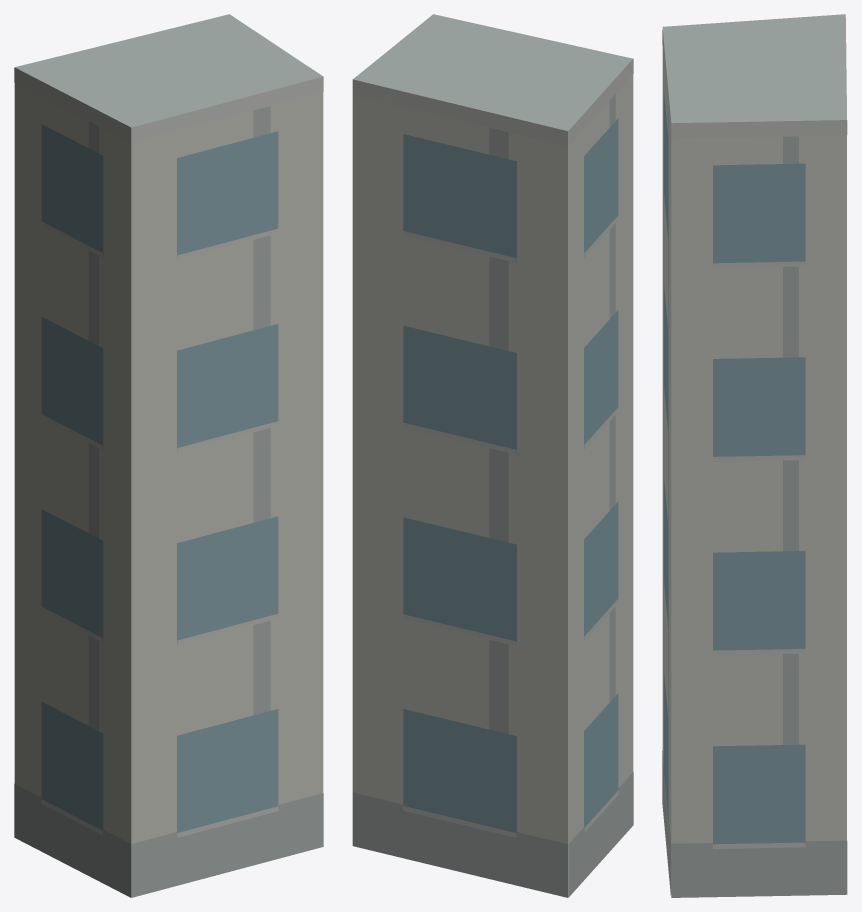
Rendered from survey-upis-32967571.glb.
3 renders of one model, left to right at view 1: azimuth 30°, elevation 25°; view 2: azimuth 150°, elevation 25°; view 3: azimuth 270°, elevation 25°, orthographic.
Visible parts, largest first — view 1: survey-upis-32967571.tmp; view 2: survey-upis-32967571.tmp; view 3: survey-upis-32967571.tmp.
Boxes of the visible parts, left/top/right/bottom form: survey-upis-32967571.tmp: left=14, top=14, right=323, bottom=897; survey-upis-32967571.tmp: left=352, top=14, right=633, bottom=897; survey-upis-32967571.tmp: left=662, top=14, right=847, bottom=897.
Size of the model in its own units: 3.69 by 12.2 by 2.65.
